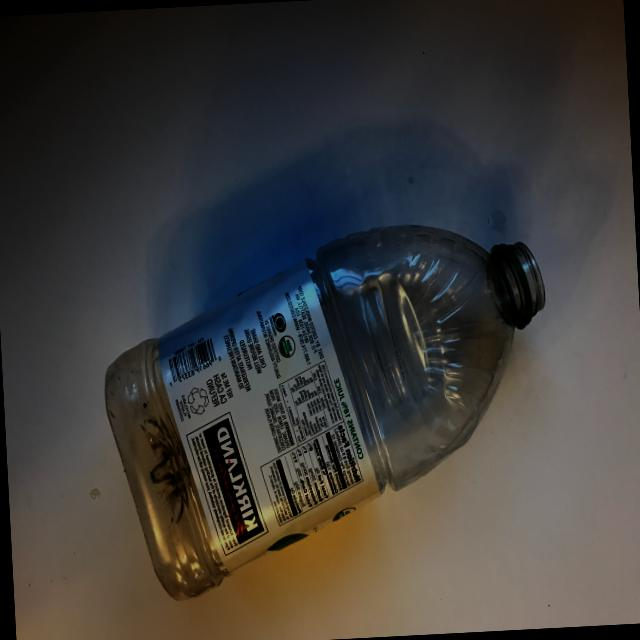Plastic: (69, 196, 582, 617)
